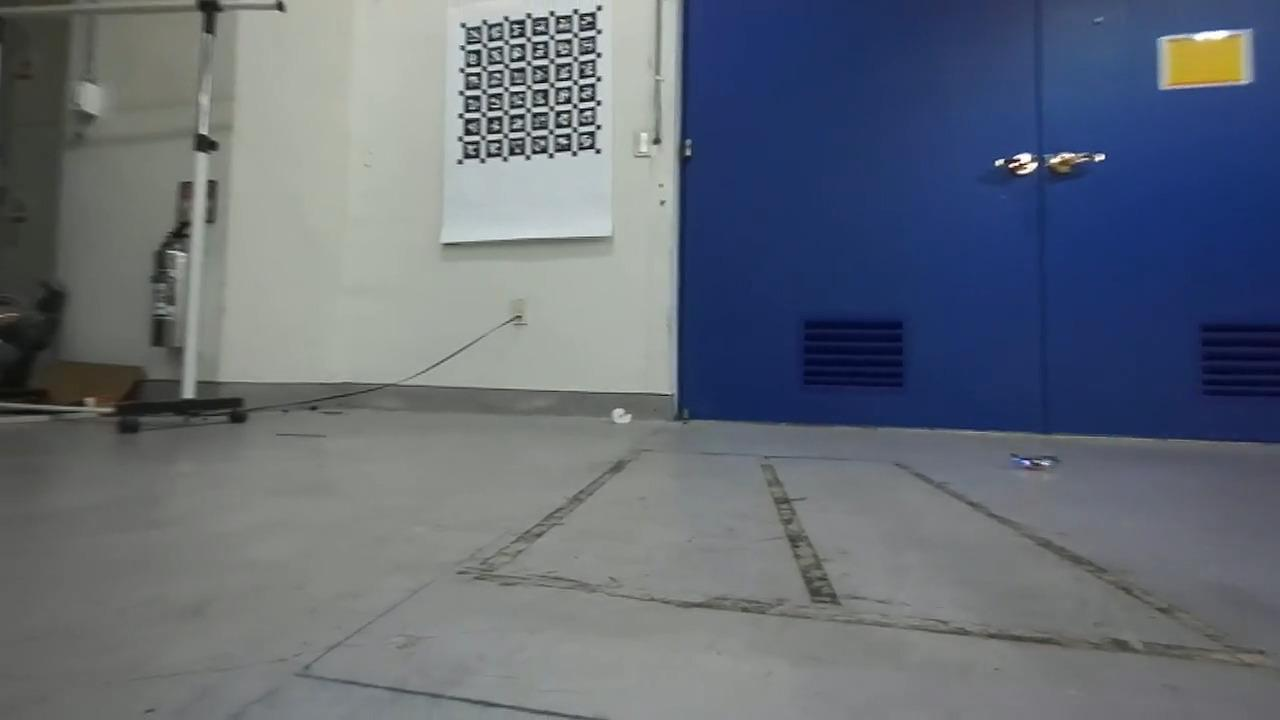crazyflie: (1008, 449, 1061, 475)
